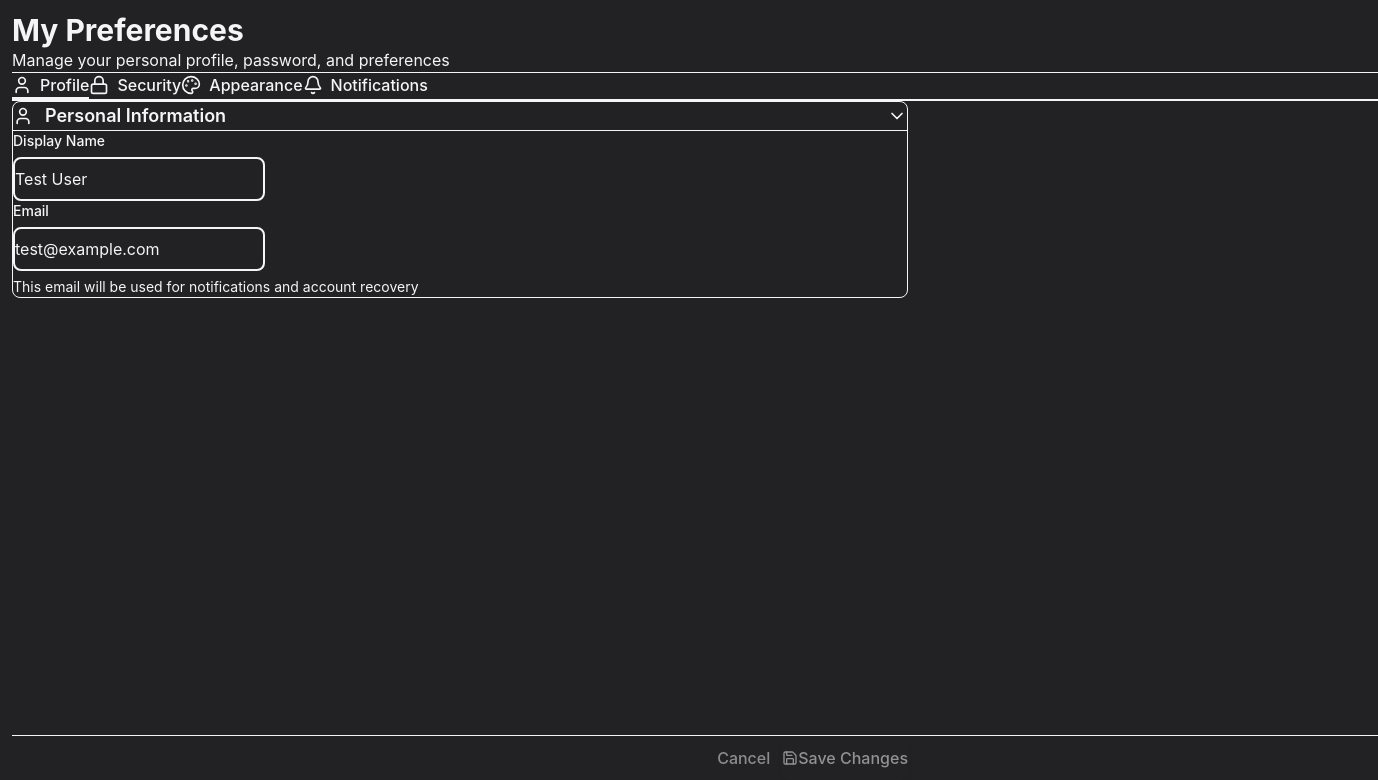
Scenario: MyPreferencesPage › Tab Navigation (Requirement 4.1) › should switch to Security tab when clicked
Click the tab "Security": (135, 86) [89, 73, 181, 99]
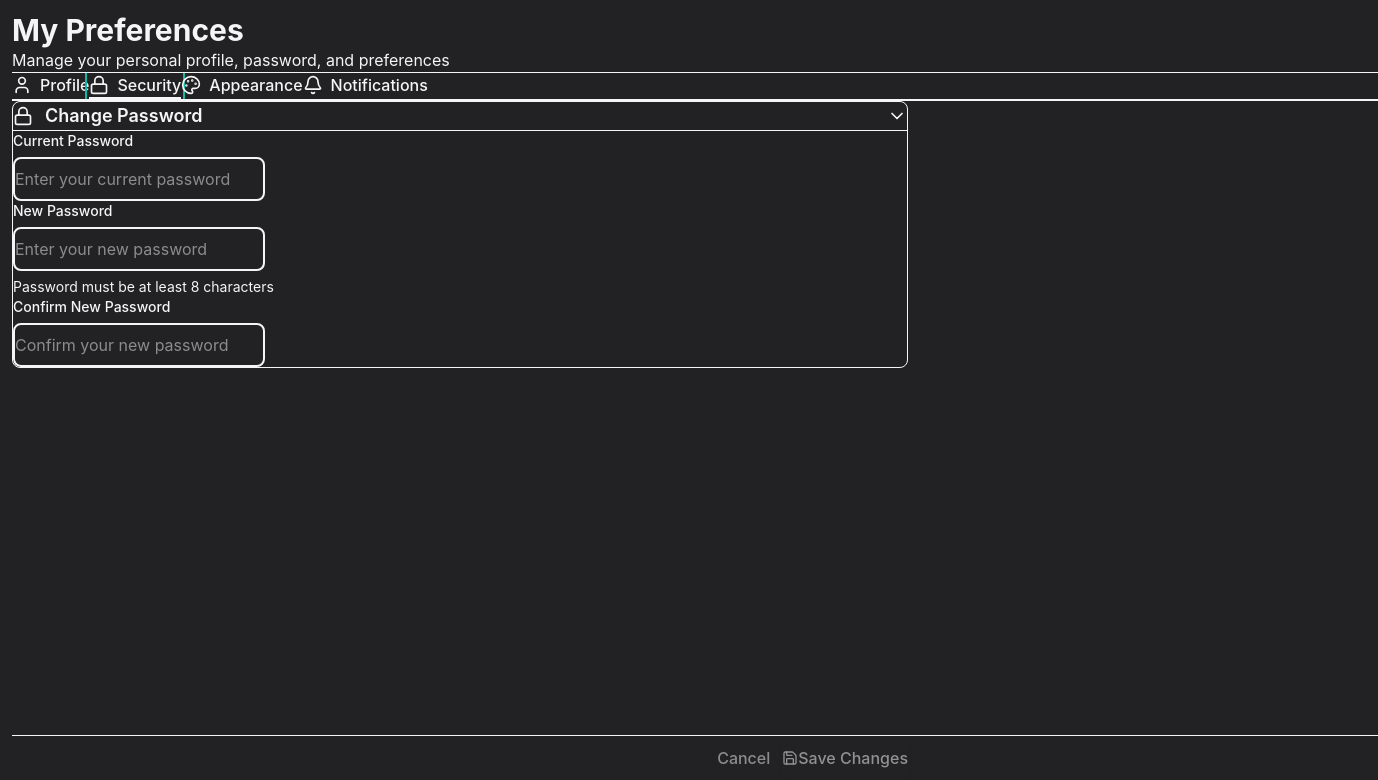
Result: the heading "Change Password" is shown at [45, 102, 202, 130]
